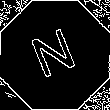N_S: (27, 24, 83, 86)
